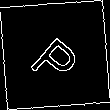P_NE: (24, 24, 86, 86)
